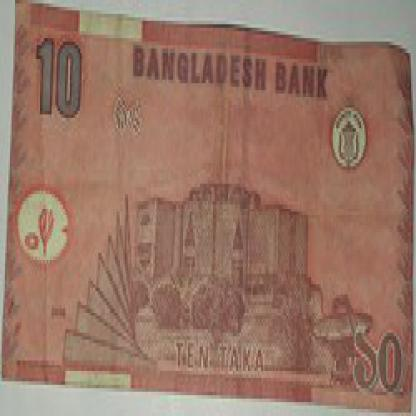Ten Taka: (28, 17, 85, 139), (351, 302, 409, 409)
